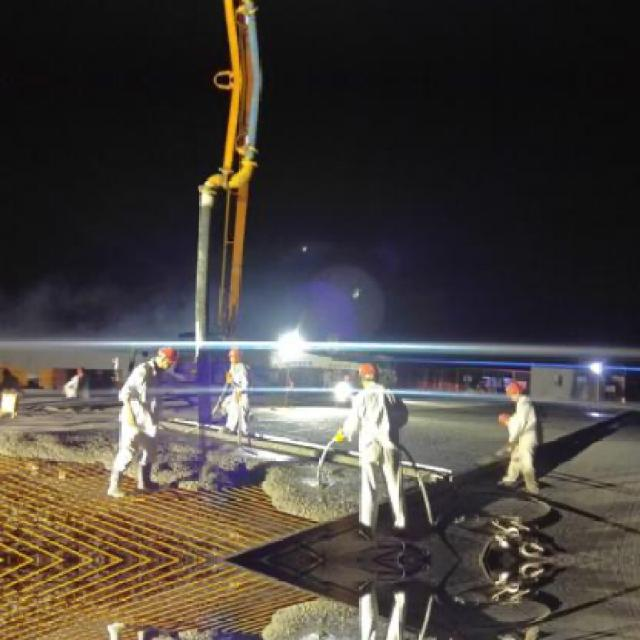helmet: (152, 343, 182, 372), (360, 362, 382, 391), (228, 346, 246, 368), (506, 382, 523, 404)
